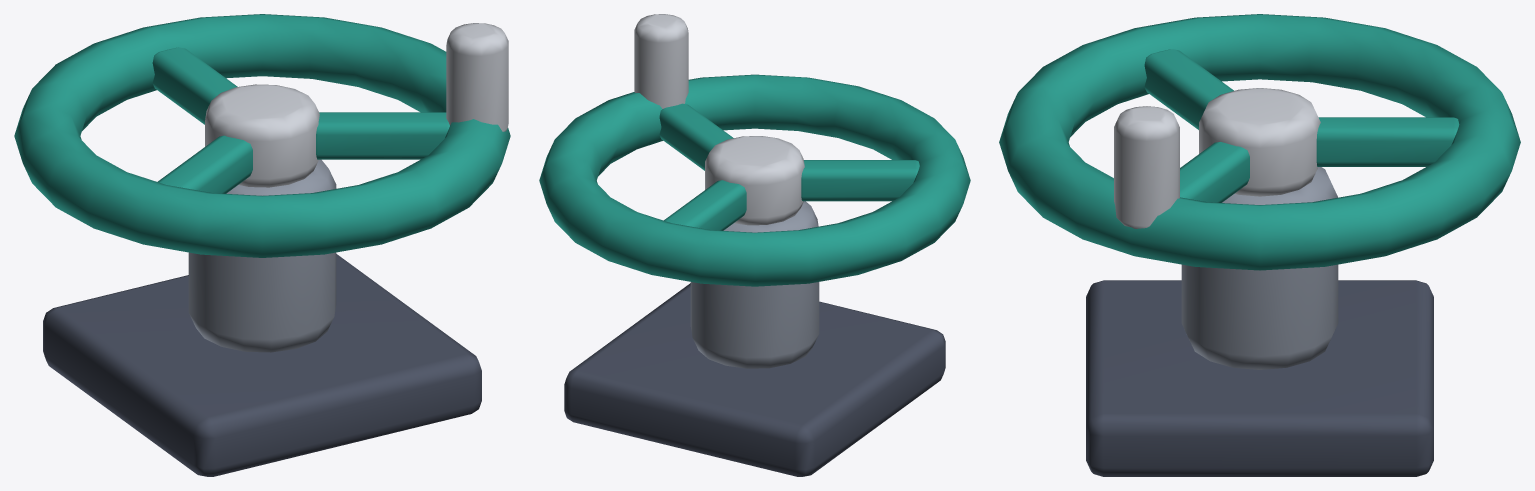
The model's file is Ctrl_Valve.glb.
3 renders of one model, left to right at view 1: azimuth 30°, elevation 25°; view 2: azimuth 150°, elevation 25°; view 3: azimuth 270°, elevation 25°, orthographic. The views are drawn at different scales.
Parts seen in each view (by area): view 1: Ctrl_Valve.Move_Wheel, Ctrl_Valve.Base, Ctrl_Valve.Bonnet; view 2: Ctrl_Valve.Move_Wheel, Ctrl_Valve.Base, Ctrl_Valve.Bonnet; view 3: Ctrl_Valve.Move_Wheel, Ctrl_Valve.Base, Ctrl_Valve.Bonnet.
Part boxes in pixels (x1,y1,x2,y2): Ctrl_Valve.Move_Wheel: [14, 14, 510, 257]; Ctrl_Valve.Base: [43, 254, 481, 476]; Ctrl_Valve.Bonnet: [188, 159, 336, 352]; Ctrl_Valve.Move_Wheel: [539, 14, 970, 286]; Ctrl_Valve.Base: [564, 283, 945, 476]; Ctrl_Valve.Bonnet: [690, 201, 819, 368]; Ctrl_Valve.Move_Wheel: [999, 14, 1520, 270]; Ctrl_Valve.Base: [1086, 280, 1433, 476]; Ctrl_Valve.Bonnet: [1181, 167, 1338, 369].
Bounding box in the file's own units: 0.3 × 0.24 × 0.3.
1 material, 1 textured.
